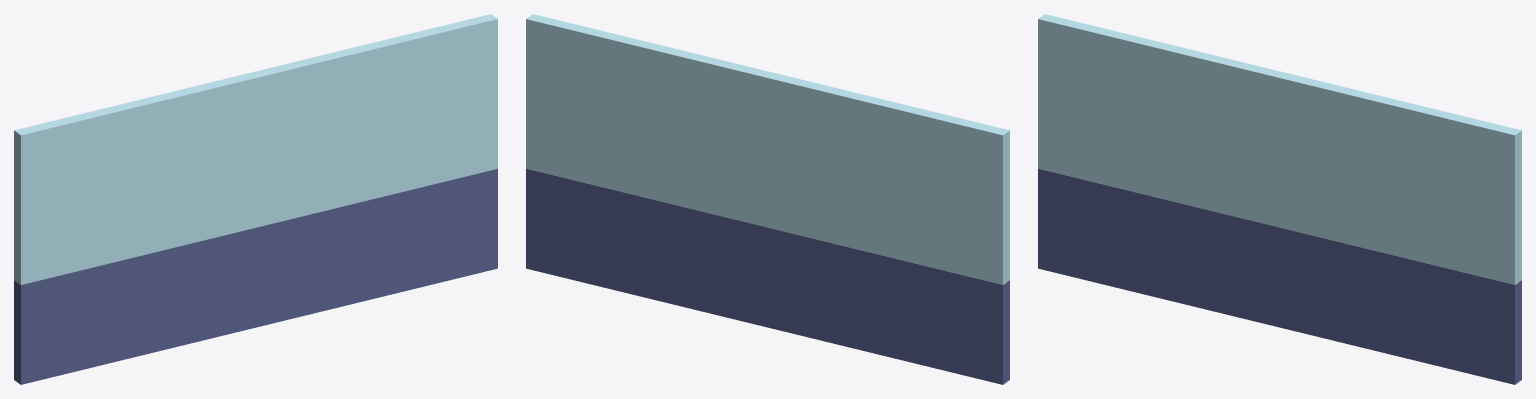
File: paredOficina.fbx
3 renders of one model, left to right at view 1: azimuth 30°, elevation 25°; view 2: azimuth 150°, elevation 25°; view 3: azimuth 330°, elevation 25°, orthographic.
Parts seen in each view (by area): view 1: Cube.012, Cube.013, Cube.014, Cube.006; view 2: Cube.012, Cube.013, Cube.014, Cube.006; view 3: Cube.013, Cube.012, Cube.006, Cube.014.
Boxes of the visible parts, x1=… form: Cube.012: x1=14, y1=72, x2=259, y2=284; Cube.013: x1=253, y1=14, x2=497, y2=226; Cube.014: x1=14, y1=227, x2=259, y2=384; Cube.006: x1=259, y1=169, x2=497, y2=326; Cube.012: x1=764, y1=72, x2=1009, y2=284; Cube.013: x1=526, y1=14, x2=770, y2=226; Cube.014: x1=764, y1=227, x2=1009, y2=384; Cube.006: x1=526, y1=169, x2=764, y2=326; Cube.013: x1=1276, y1=72, x2=1521, y2=284; Cube.012: x1=1038, y1=14, x2=1282, y2=226; Cube.006: x1=1276, y1=227, x2=1521, y2=384; Cube.014: x1=1038, y1=169, x2=1276, y2=326.
Size of the model in its own units: 800 by 400 by 20.
